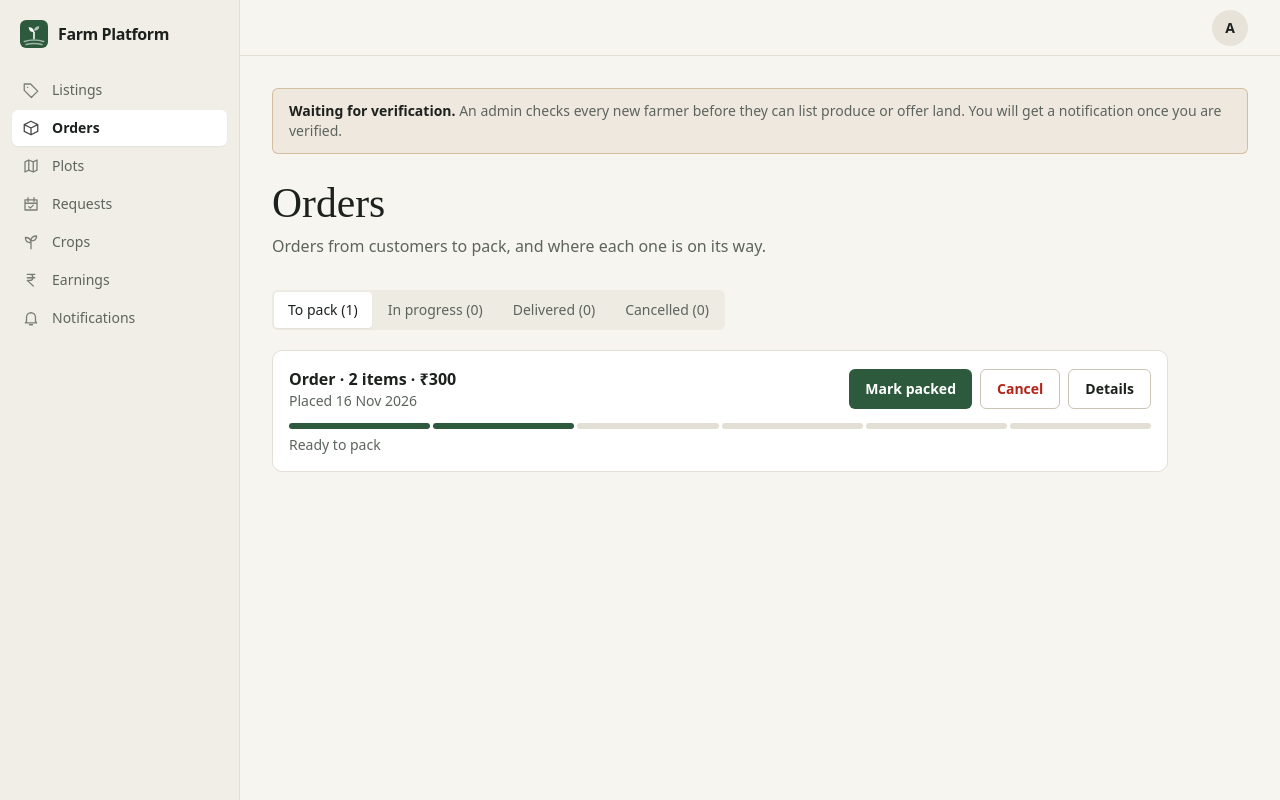
Test: farmer orders page › lists orders to pack and marks one packed
Click the button "Mark packed": (911, 389) [849,369,972,409]
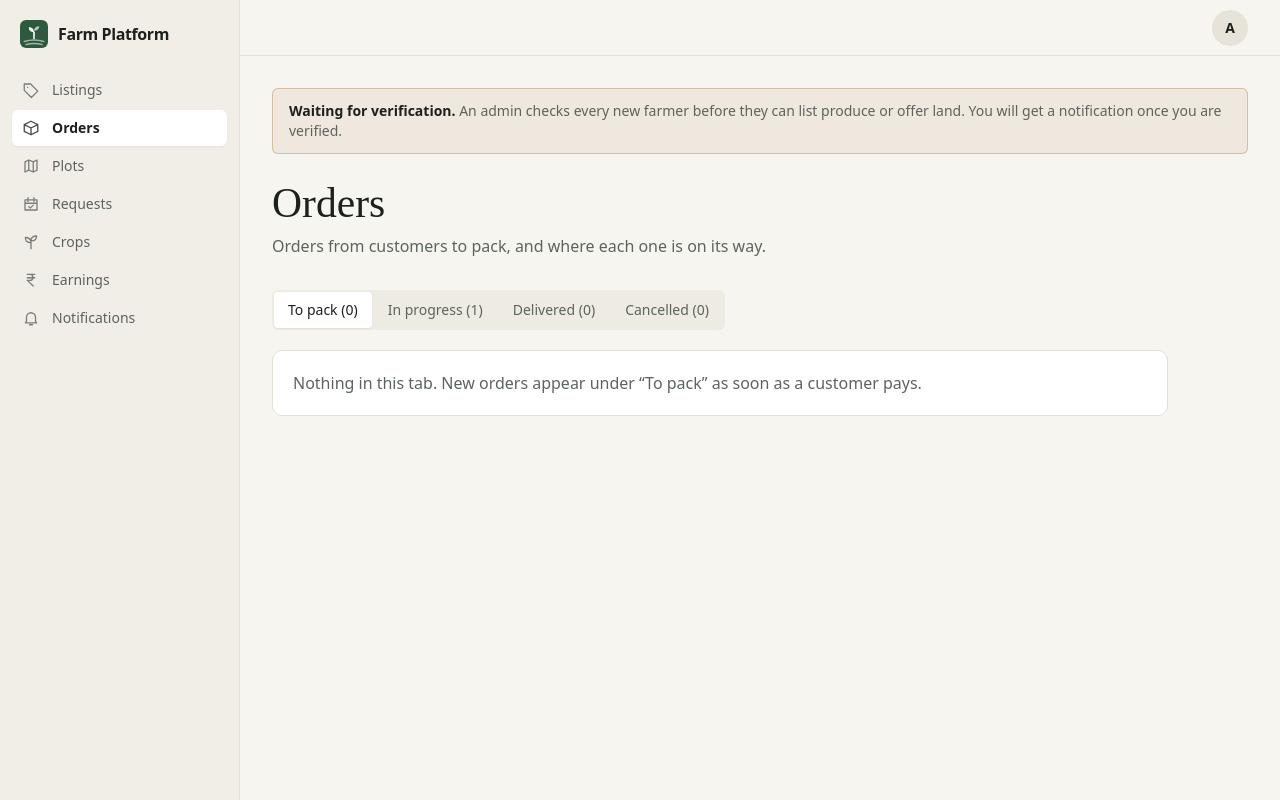
Click the tab "In progress (1)": (435, 310) [374,292,497,328]
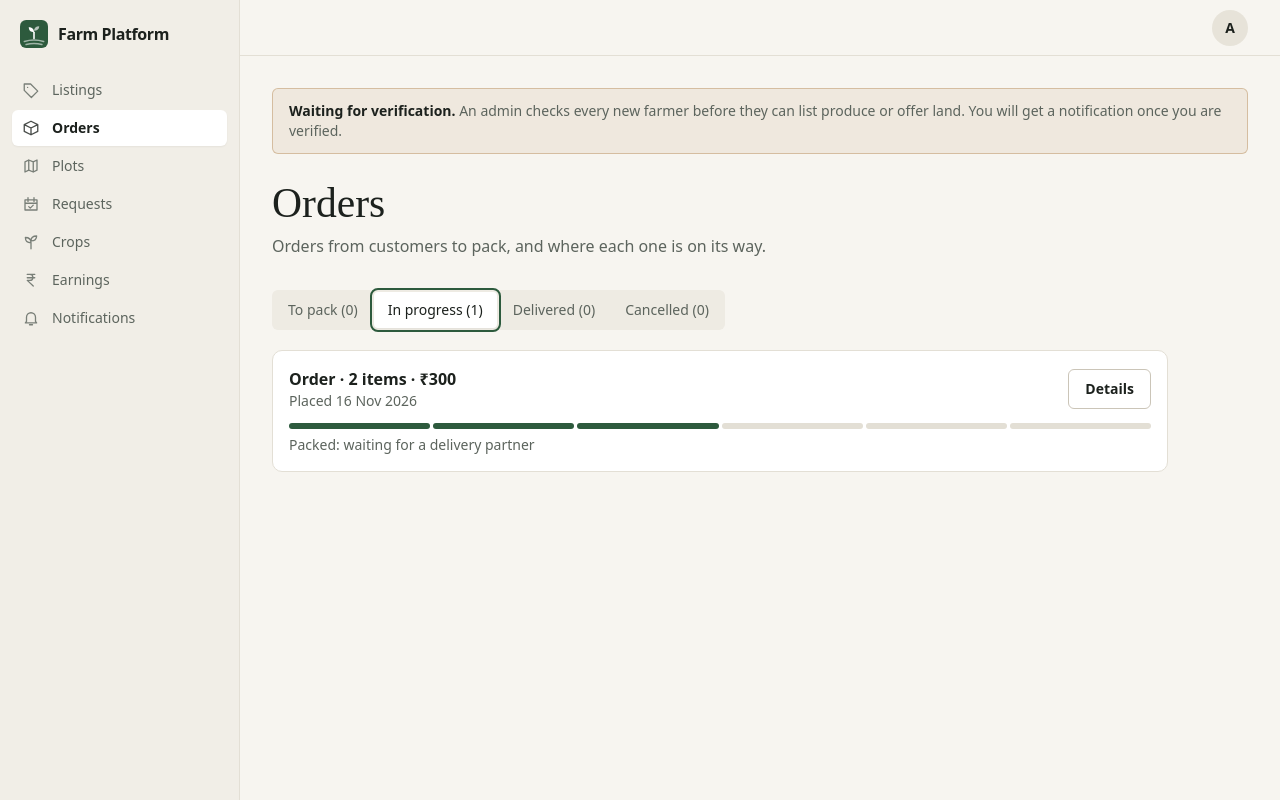
Now the text "Packed: waiting for a delivery partner" is shown, box [289,435,535,454]
